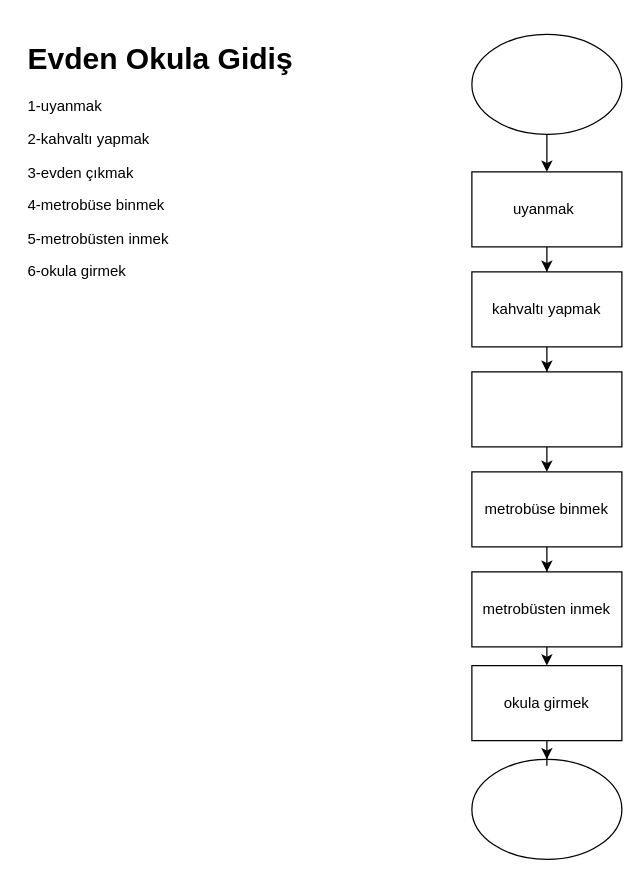
The diagram is 644 pixels wide and 881 high, and some of its shapes have lost their labels. Here are the shapes that lost their labels. From the top down, the centre of each, then its label:
the point at 546,83: başla
the point at 546,409: evden çıkmak
the point at 546,808: bitiş
